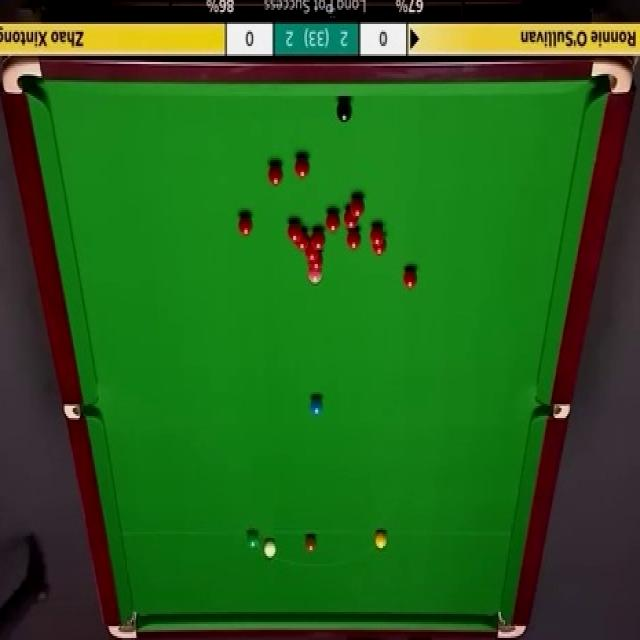black-ball: (336, 102, 354, 125)
blue-ball: (310, 398, 324, 415)
brown-ball: (305, 534, 316, 552)
green-ball: (245, 530, 260, 552)
pink-ball: (306, 270, 322, 284)
red-ball: (238, 213, 254, 240), (403, 266, 419, 290), (310, 228, 326, 251), (324, 212, 340, 235), (287, 222, 303, 244), (296, 159, 310, 183), (348, 198, 363, 220), (270, 166, 284, 187), (343, 208, 358, 227), (296, 234, 310, 254), (370, 224, 382, 247), (346, 232, 361, 250), (306, 244, 320, 262), (375, 237, 387, 257), (309, 256, 325, 271)
white-ball: (262, 538, 276, 560)
yellow-ball: (375, 530, 387, 550)
